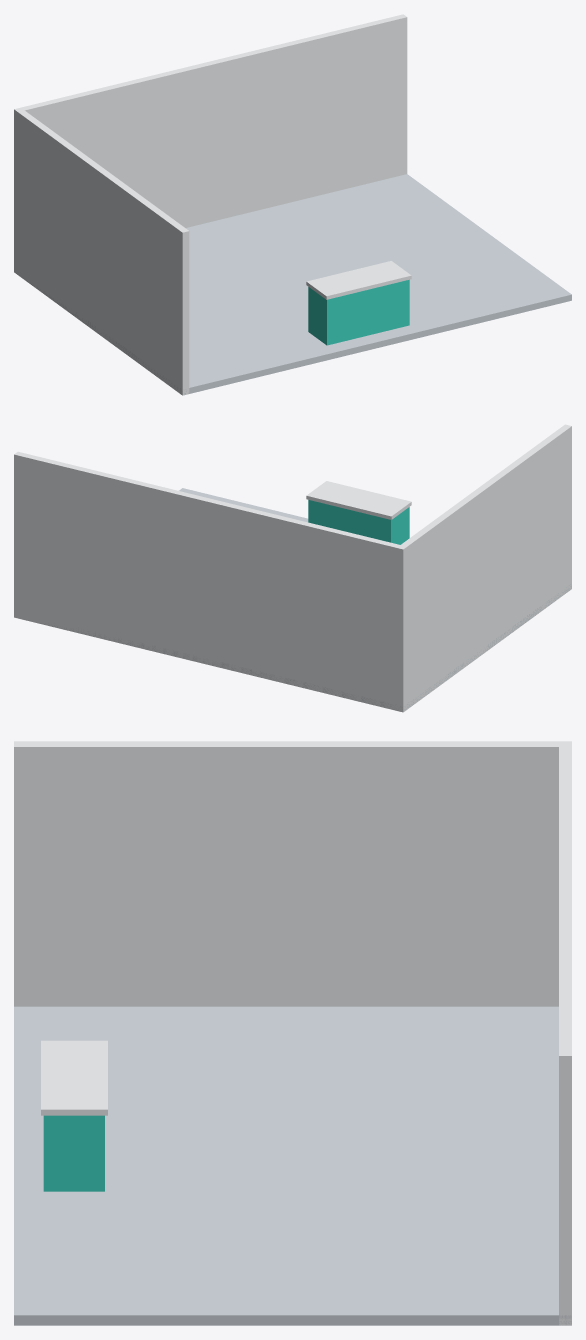
3 renders of one model, top to bottom at view 1: azimuth 30°, elevation 25°; view 2: azimuth 150°, elevation 25°; view 3: azimuth 270°, elevation 25°, orthographic. The views are drawn at different scales.
Parts seen in each view (by area): view 1: Exhibition Booth Concept; view 2: Exhibition Booth Concept; view 3: Exhibition Booth Concept.
Boxes of the visible parts, x1,y1,x2,y2 form: Exhibition Booth Concept: (14,14,571,395); Exhibition Booth Concept: (14,424,571,712); Exhibition Booth Concept: (14,741,571,1325).
Size of the model in its own units: 8 by 3.2 by 6.
